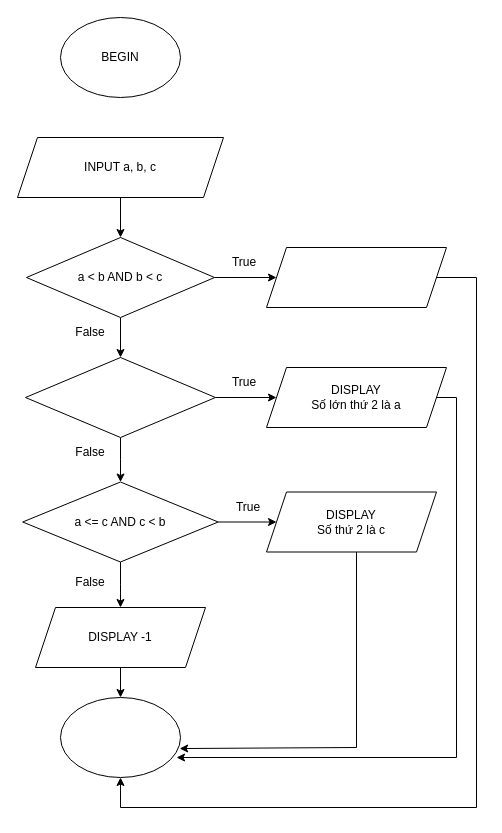
The diagram is 502 pixels wide and 833 high, and some of its shapes have lost their labels. Each missing label, with the centre of its shape:
b < a AND a < c: pixel 120 397
DISPLAY Số lớn thứ 2 là b: pixel 356 277
END: pixel 120 737
